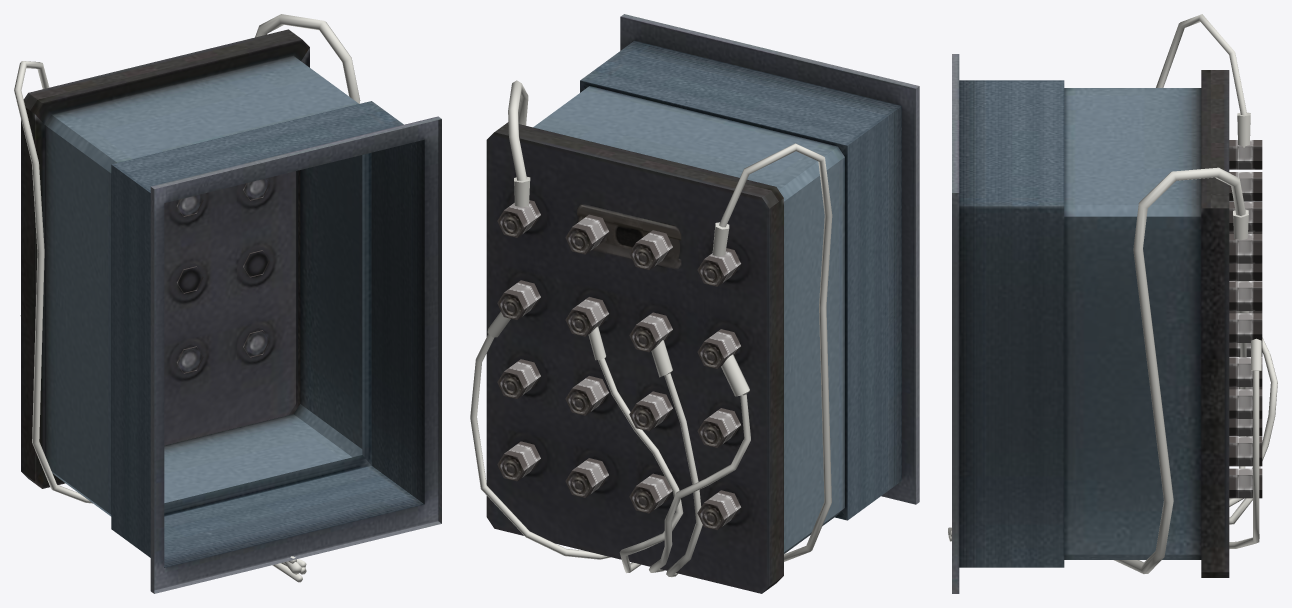
The model's file is box_shpilki2.FBX.
3 renders of one model, left to right at view 1: azimuth 30°, elevation 25°; view 2: azimuth 150°, elevation 25°; view 3: azimuth 270°, elevation 25°, orthographic. The views are drawn at different scales.
Parts seen in each view (by area): view 1: box_shpil; view 2: box_shpil; view 3: box_shpil.
Boxes of the visible parts, box(x1,y1,x2,y2) form: box_shpil: box(14, 14, 441, 593); box_shpil: box(470, 14, 919, 593); box_shpil: box(948, 14, 1277, 593).
Size of the model in its own units: 0.0509 by 0.0454 by 0.0703.
